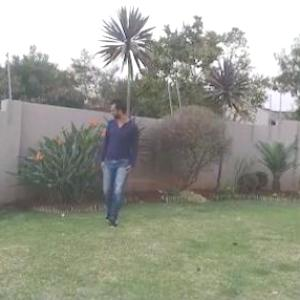follow: (92, 86, 142, 239)
